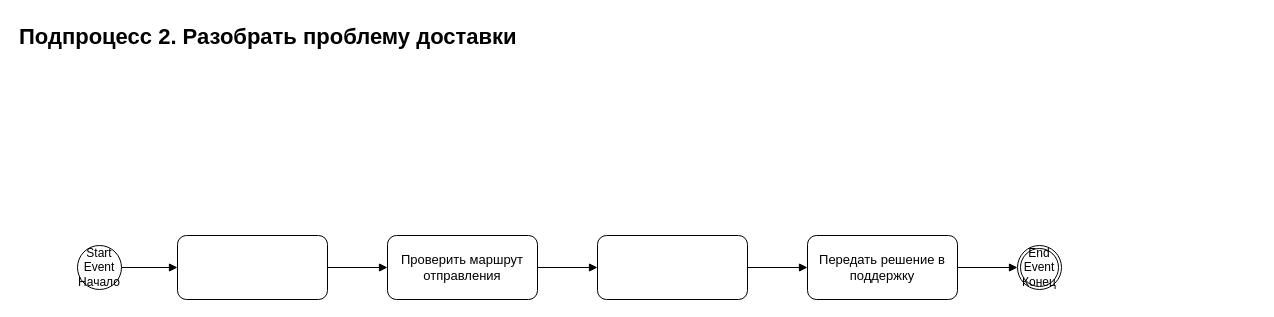
Some shapes in this 1274 by 317 pixel diagram are drawn without their labels. The centre of each missing label's shape, as x and y in pixels:
Получить проблемный статус доставки: pixel 252 267
Связаться с клиентом: pixel 672 267
